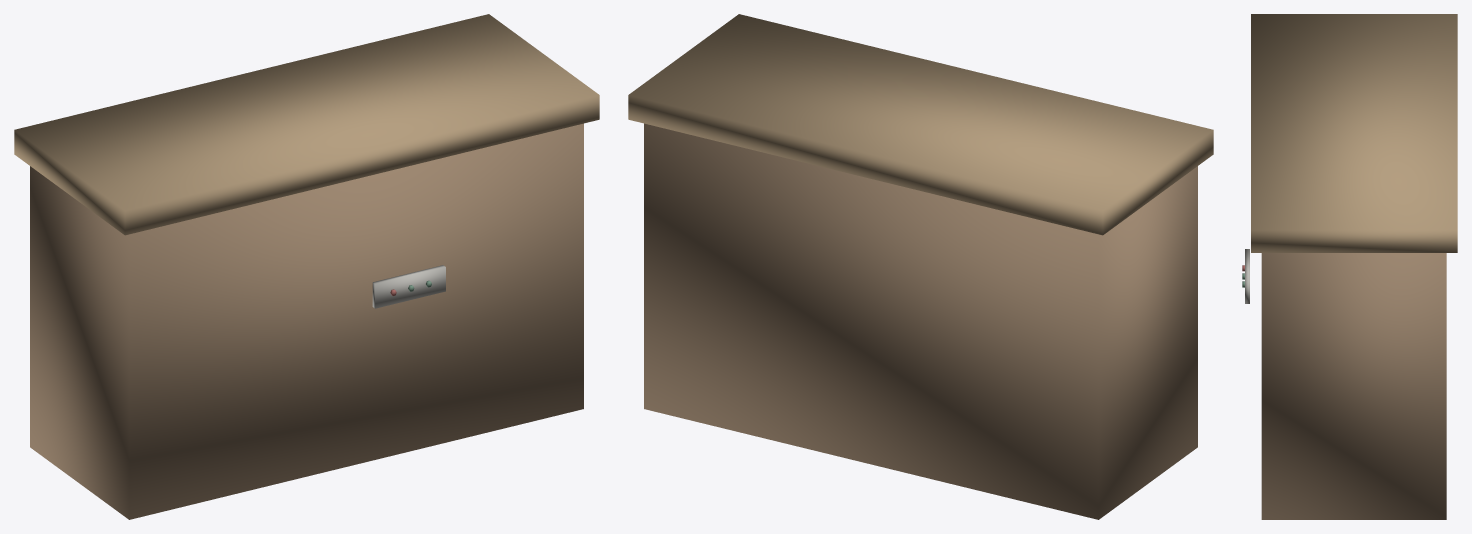
The model's file is hotel_reception_counter__tall.glb.
3 views of the same model, side by side, from view 1: azimuth 30°, elevation 25°; view 2: azimuth 150°, elevation 25°; view 3: azimuth 270°, elevation 25° (orthographic). The views are drawn at different scales.
Visible parts, largest first — view 1: world; view 2: world; view 3: world.
Part boxes in pixels (x1,y1,x2,y2): world: (14,14,599,519); world: (628,14,1213,519); world: (1242,14,1457,519).
Size of the model in its own units: 1.88 by 1.19 by 0.791.
